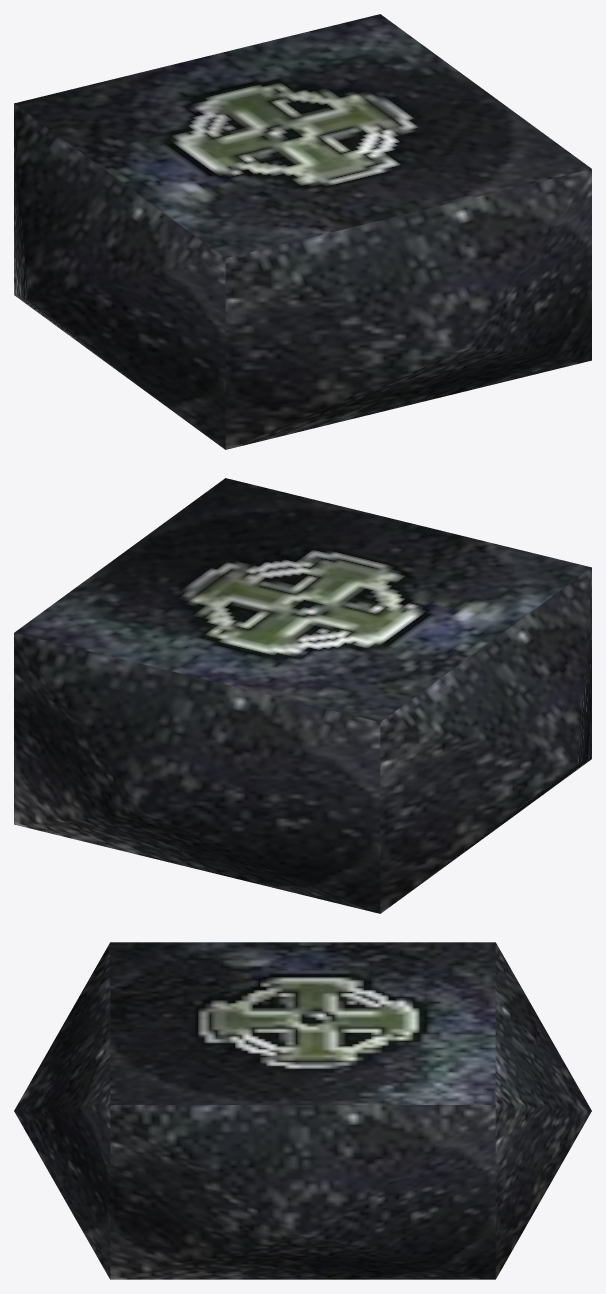
File: ITRU_MEDIUMHEAL.glb
3 views of the same model, one above another, from view 1: azimuth 30°, elevation 25°; view 2: azimuth 150°, elevation 25°; view 3: azimuth 270°, elevation 25° (orthographic). The views are drawn at different scales.
Parts seen in each view (by area): view 1: Mesh; view 2: Mesh; view 3: Mesh.
Boxes of the visible parts, left/top/right/bottom form: Mesh: left=14, top=14, right=591, bottom=449; Mesh: left=14, top=478, right=591, bottom=913; Mesh: left=14, top=942, right=591, bottom=1279.
Size of the model in its own units: 0.27 by 0.09 by 0.27.
Materials: 1 (1 with a texture image).
